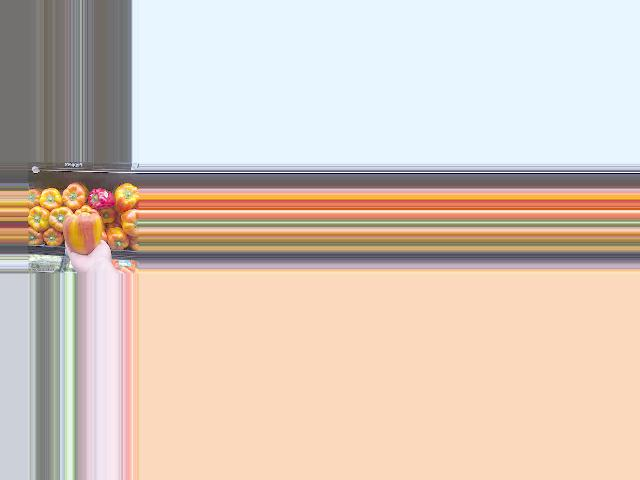bell_pepper: (104, 226, 130, 247)
